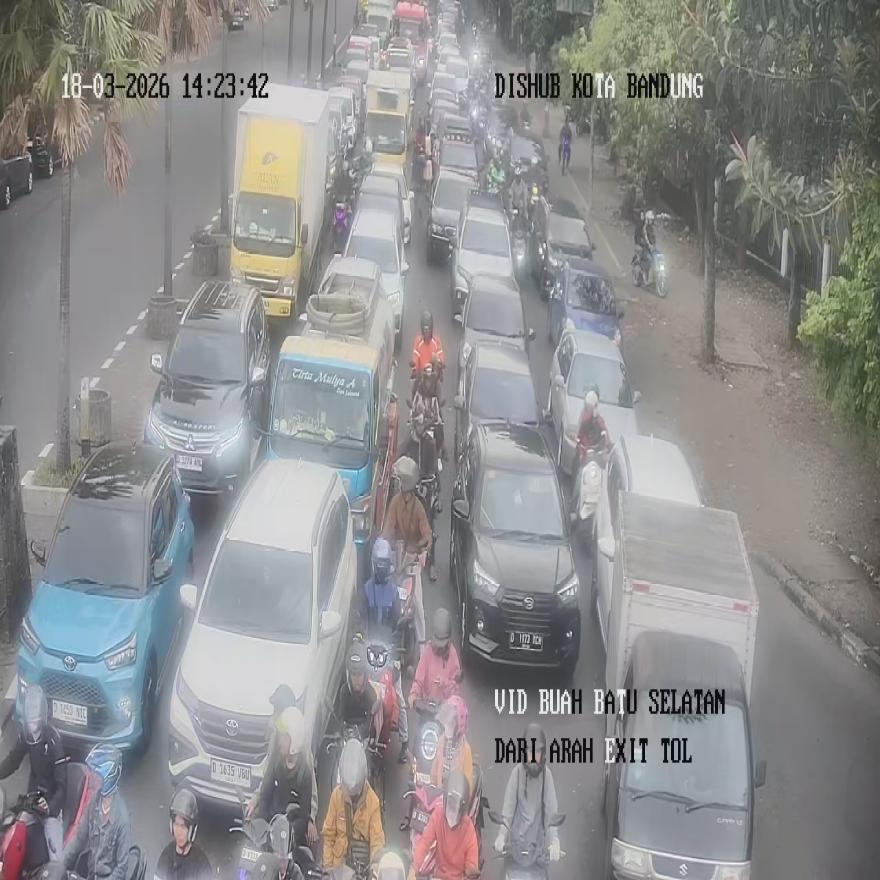Mobil: (166, 457, 358, 815), (594, 491, 765, 876), (14, 440, 195, 760), (449, 418, 582, 675), (144, 281, 270, 496), (546, 319, 642, 491)
Motor: (0, 683, 66, 878), (0, 761, 97, 880), (220, 786, 324, 880), (321, 734, 385, 878), (407, 766, 482, 880), (360, 611, 406, 763), (484, 802, 563, 880), (391, 544, 423, 676), (570, 444, 604, 548), (632, 242, 666, 297), (331, 197, 352, 253)
Truk menengah: (231, 83, 329, 321)
Truk ringan: (262, 255, 396, 555)
